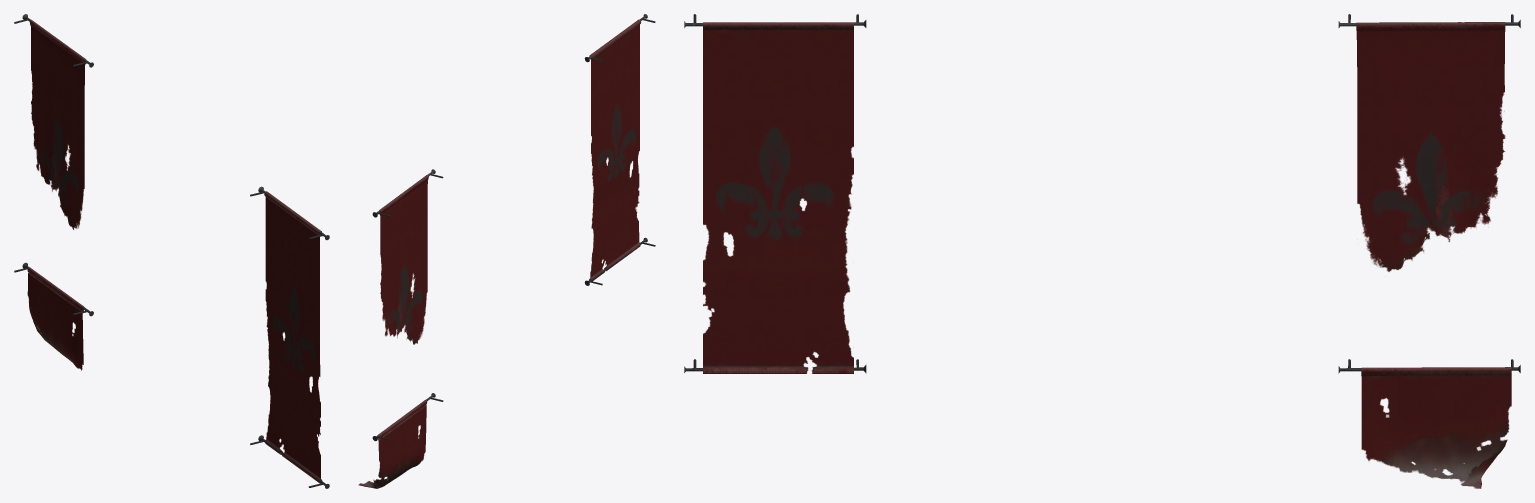
File: banner-optimized.glb
The picture shows the model from 3 angles, left to right: view 1: azimuth 30°, elevation 25°; view 2: azimuth 150°, elevation 25°; view 3: azimuth 270°, elevation 25°; orthographic projection. The views are drawn at different scales.
Parts seen in each view (by area): view 1: pCube5, tuch:Mesh; view 2: pCube5, tuch:Mesh; view 3: pCube5, tuch:Mesh.
Part boxes in pixels (<box>): pCube5: <box>264,191,322,483</box>; tuch:Mesh: <box>27,19,85,370</box>; pCube5: <box>589,19,641,281</box>; tuch:Mesh: <box>358,174,428,488</box>; pCube5: <box>703,22,853,373</box>; tuch:Mesh: <box>1356,22,1511,488</box>.
Bounding box in the file's own units: 0.1796 × 1.18 × 2.
Materials: 1 (1 with a texture image).
